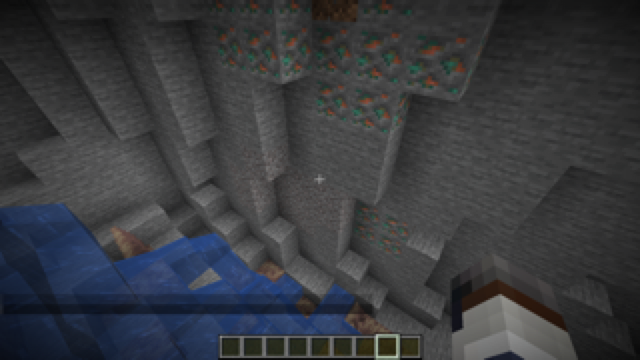copper: (214, 1, 482, 134), (348, 199, 410, 260)
